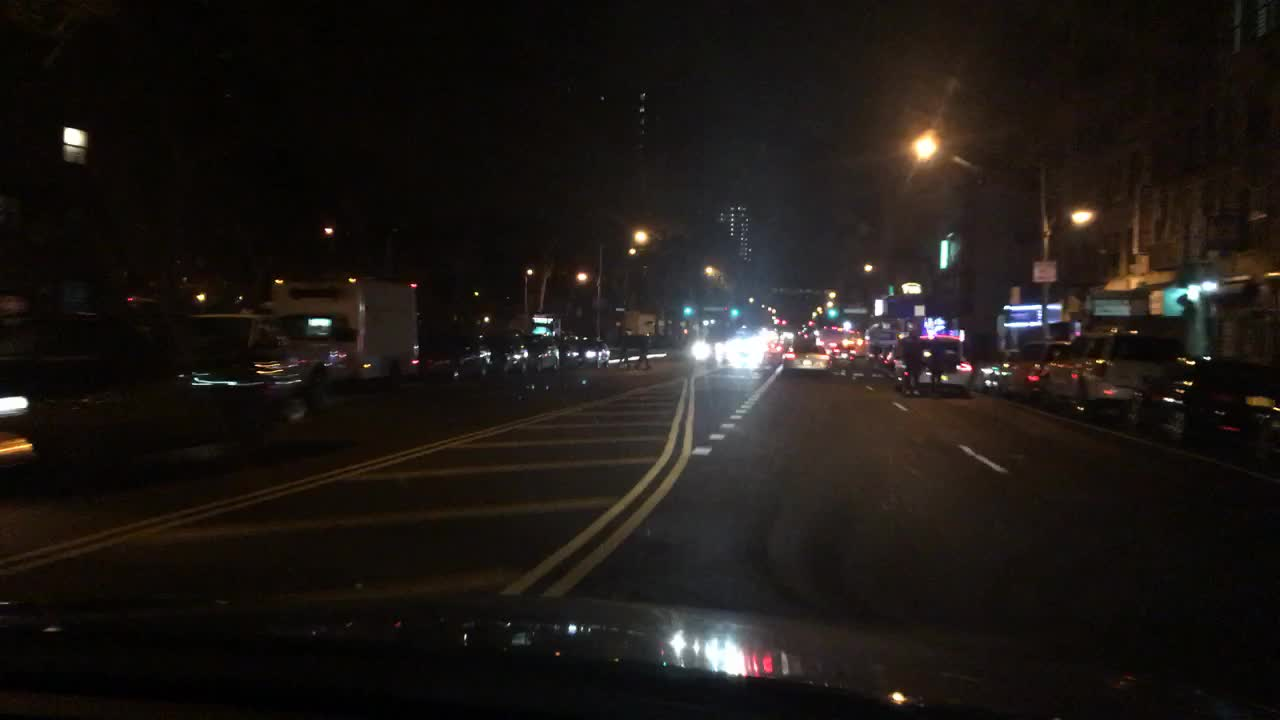car: (0, 311, 310, 461), (1036, 326, 1179, 430), (1130, 357, 1277, 453), (896, 333, 972, 401), (1001, 338, 1069, 401), (427, 332, 497, 382), (976, 348, 1019, 392), (783, 342, 832, 376), (488, 335, 527, 375), (559, 339, 611, 368), (524, 336, 560, 375), (689, 335, 730, 367), (814, 327, 851, 357), (877, 341, 895, 367), (851, 327, 866, 358), (765, 333, 784, 355)
person: (898, 327, 926, 397), (929, 335, 949, 399), (616, 329, 633, 375), (635, 329, 652, 373)
traffic light: (725, 301, 742, 321), (821, 304, 840, 321), (679, 303, 696, 319), (776, 315, 794, 327), (805, 315, 820, 329)
traffic sign: (1030, 258, 1059, 284)
truck: (270, 275, 417, 395)
